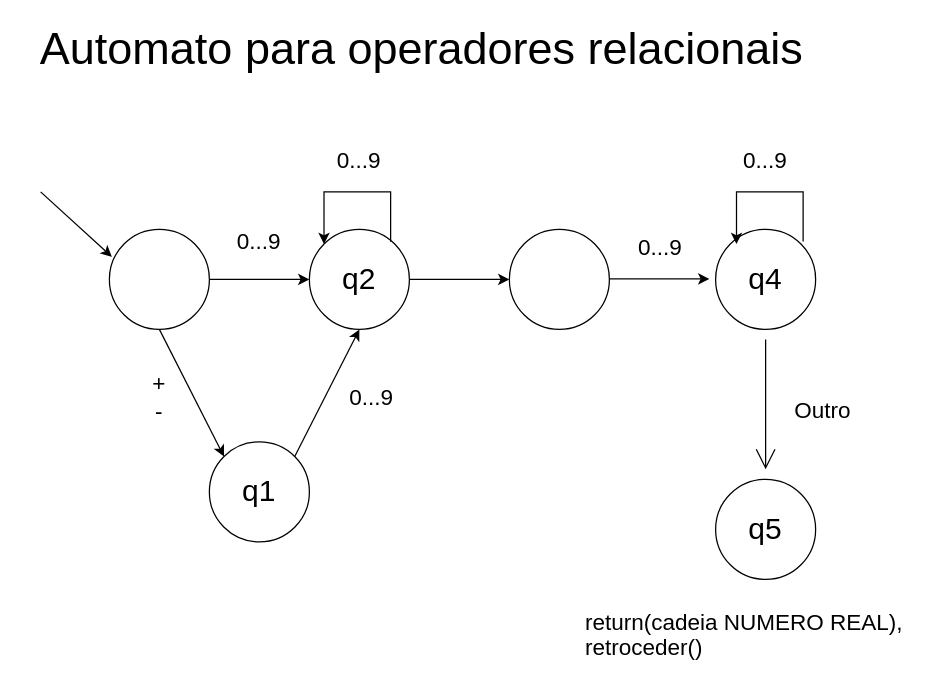
Some shapes in this 949 by 689 pixel diagram are drawn without their labels. The box of each missing label's shape, as (x1, y1, x2, y2) in pixels:
q0: (108, 228, 209, 329)
q3: (508, 228, 609, 329)
